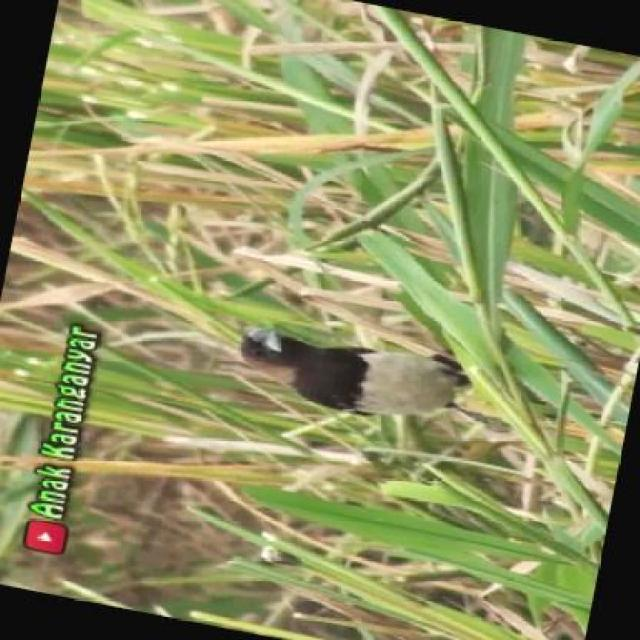Bird: (210, 302, 486, 436)
